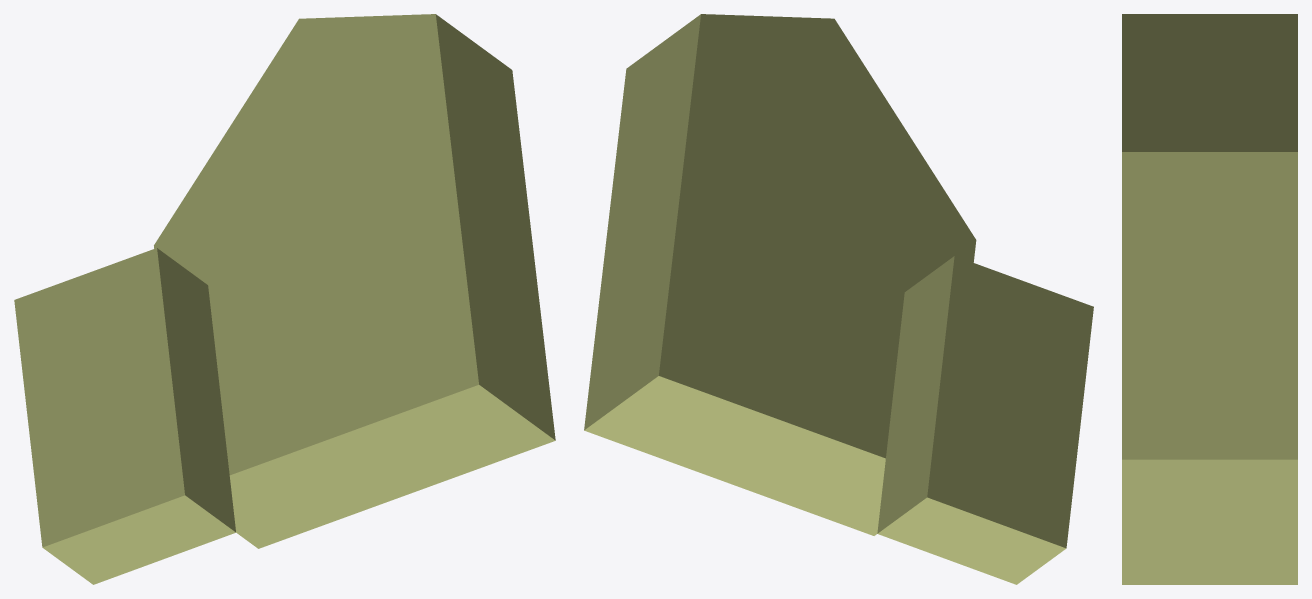
The picture shows the model from 3 angles, left to right: view 1: azimuth 30°, elevation 25°; view 2: azimuth 150°, elevation 25°; view 3: azimuth 270°, elevation 25°; orthographic projection. The views are drawn at different scales.
Parts seen in each view (by area): view 1: 0_2_0_1_2_2_2_2_0; view 2: 0_2_0_1_2_2_2_2_0; view 3: 0_2_0_1_2_2_2_2_0.
Boxes of the visible parts, x1,y1,x2,y2 form: 0_2_0_1_2_2_2_2_0: [14, 14, 555, 584]; 0_2_0_1_2_2_2_2_0: [584, 14, 1093, 584]; 0_2_0_1_2_2_2_2_0: [1122, 14, 1297, 584].
Bounding box in the file's own units: 31.75 × 30.01 × 9.
